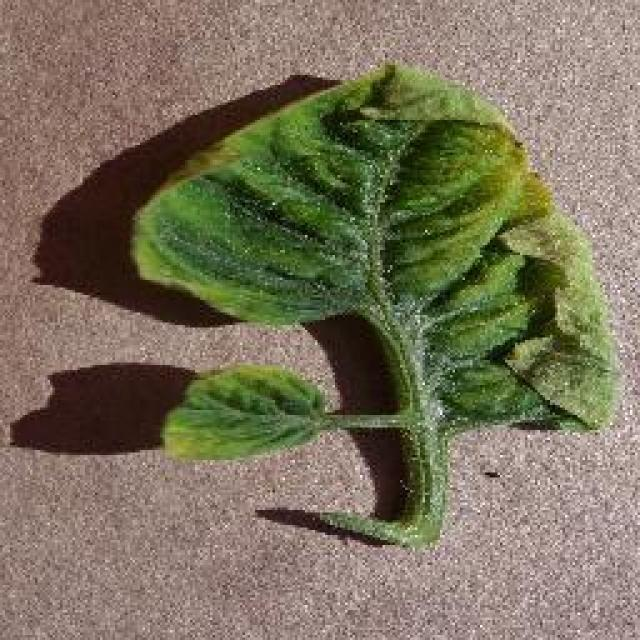Tomato yellow virus leaf: (132, 58, 617, 440), (166, 363, 330, 465)
